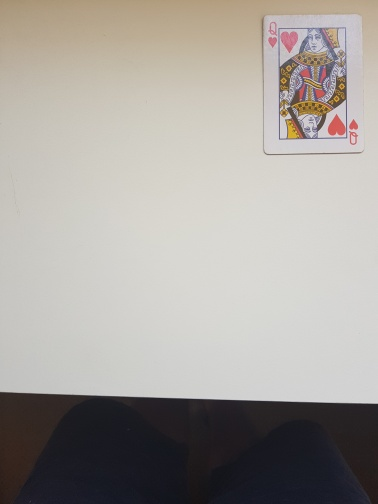queen: (262, 14, 364, 155)
